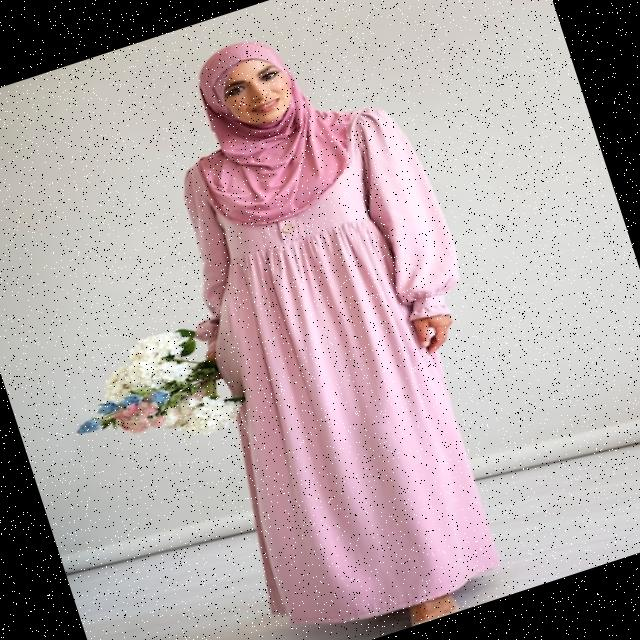Person: (100, 0, 560, 640)
